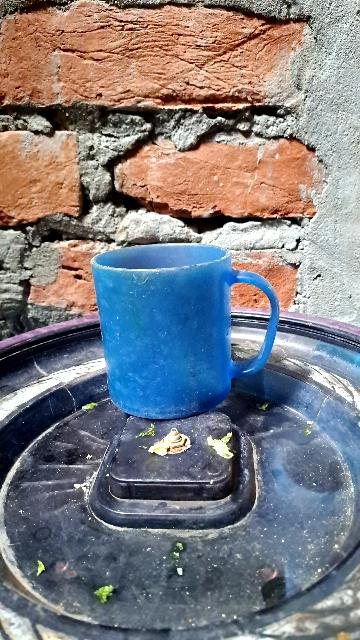hardplastic: (86, 228, 272, 419)
